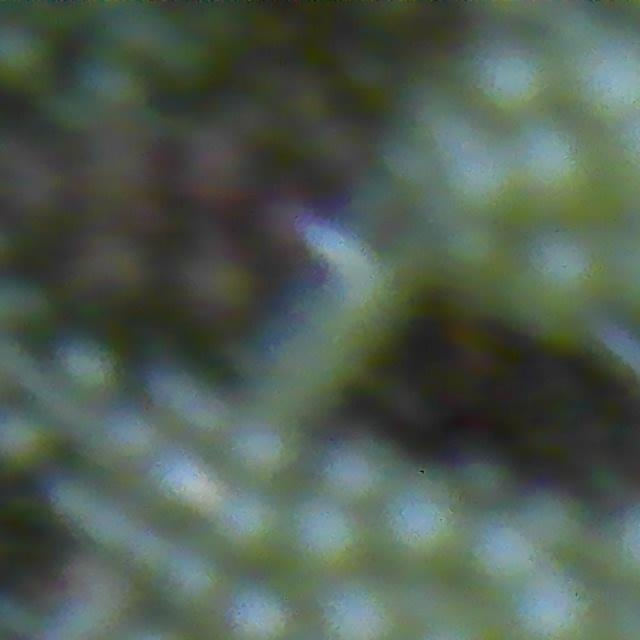SeaGrape: (79, 127, 174, 228), (522, 237, 609, 340), (458, 42, 552, 127), (557, 30, 640, 125), (66, 229, 151, 319), (174, 142, 262, 227), (237, 193, 321, 282), (172, 244, 256, 332), (512, 133, 595, 222), (377, 493, 465, 574), (0, 154, 72, 251), (433, 218, 512, 303), (509, 573, 604, 640), (440, 147, 513, 220), (288, 508, 363, 578), (469, 518, 541, 588), (148, 450, 218, 520), (0, 13, 56, 96), (89, 404, 158, 470), (215, 498, 282, 565), (225, 419, 294, 484), (163, 560, 228, 626), (325, 442, 387, 511), (327, 584, 403, 640), (221, 587, 298, 640), (0, 406, 49, 470)
